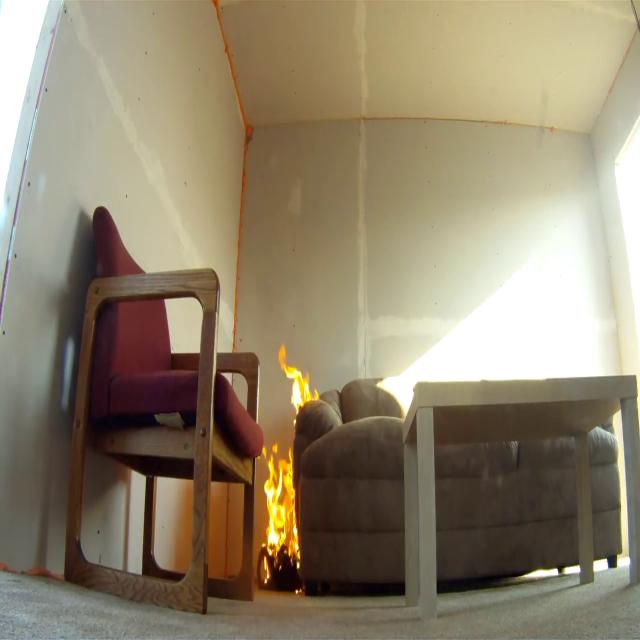fire: (260, 442, 302, 590), (274, 343, 321, 428)
